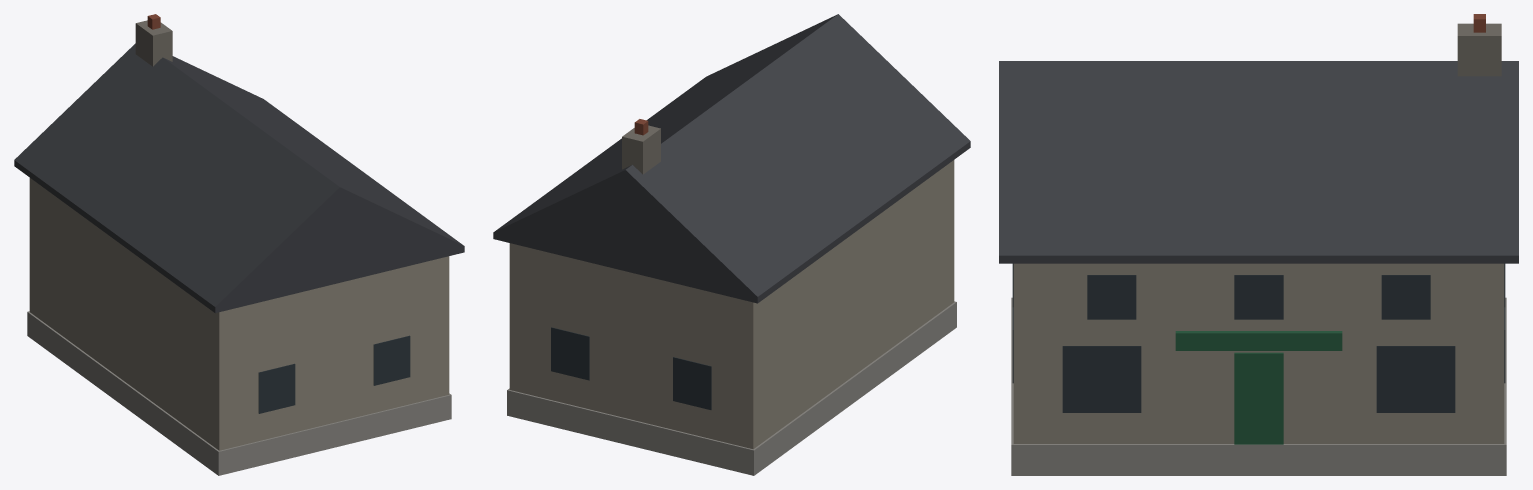
Rendered from SM_Prop_cafe_building_6_LOD2.glb.
3 renders of one model, left to right at view 1: azimuth 30°, elevation 25°; view 2: azimuth 150°, elevation 25°; view 3: azimuth 270°, elevation 25°, orthographic. The views are drawn at different scales.
Parts seen in each view (by area): view 1: SM_Prop_cafe_building_6_LOD2; view 2: SM_Prop_cafe_building_6_LOD2; view 3: SM_Prop_cafe_building_6_LOD2.
Boxes of the visible parts, left/top/right/bottom form: SM_Prop_cafe_building_6_LOD2: left=14, top=14, right=464, bottom=475; SM_Prop_cafe_building_6_LOD2: left=493, top=14, right=970, bottom=475; SM_Prop_cafe_building_6_LOD2: left=999, top=14, right=1518, bottom=475.
Size of the model in its own units: 7.6 by 8.68 by 10.6.
